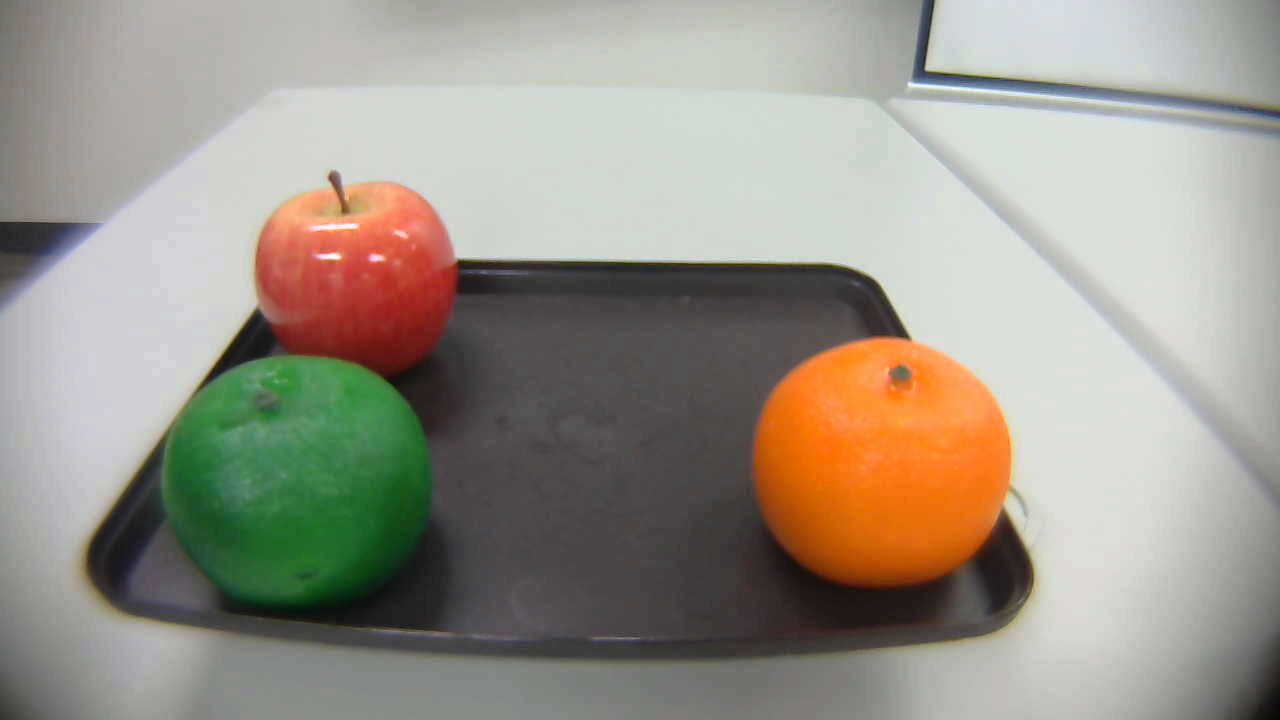green orange: (160, 340, 438, 616)
orange: (743, 335, 1009, 593)
red apple: (238, 166, 464, 380)
